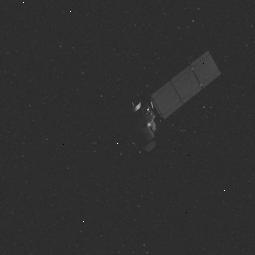earth_observation_sat_1: (116, 70, 190, 156)
